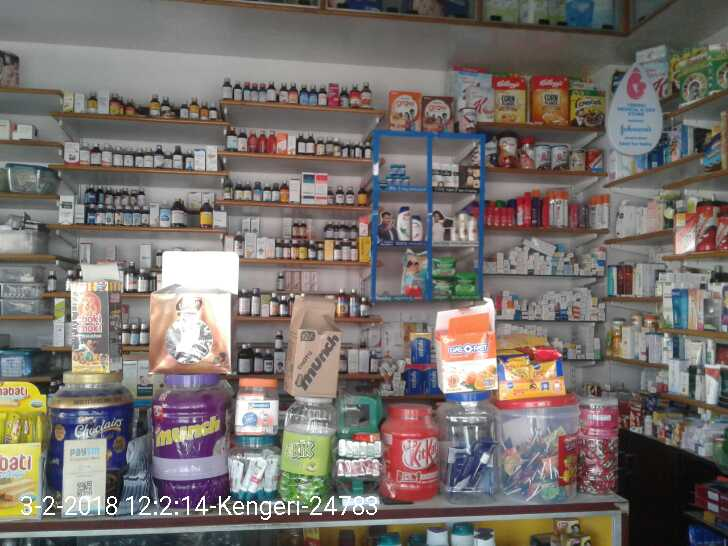beauty: (392, 205, 422, 244), (429, 159, 458, 190), (454, 215, 472, 249)
pharmacy: (400, 251, 429, 299), (383, 163, 411, 190), (454, 274, 479, 297), (426, 254, 452, 272)
